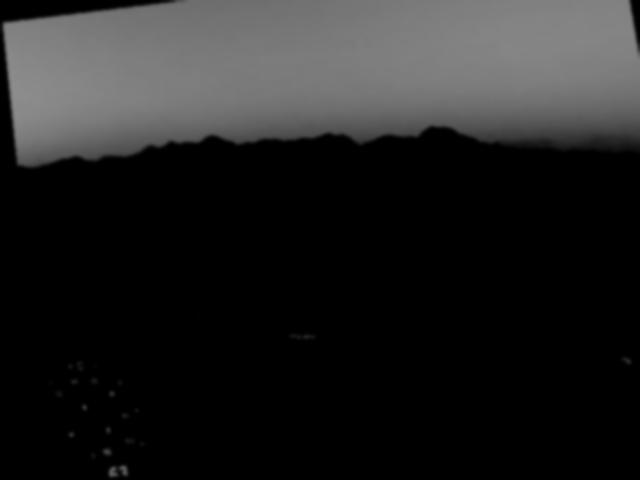hedef: (268, 324, 317, 354)
